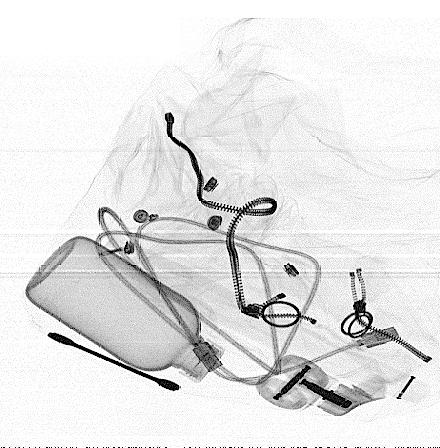Wrench: (47, 330, 183, 392)
